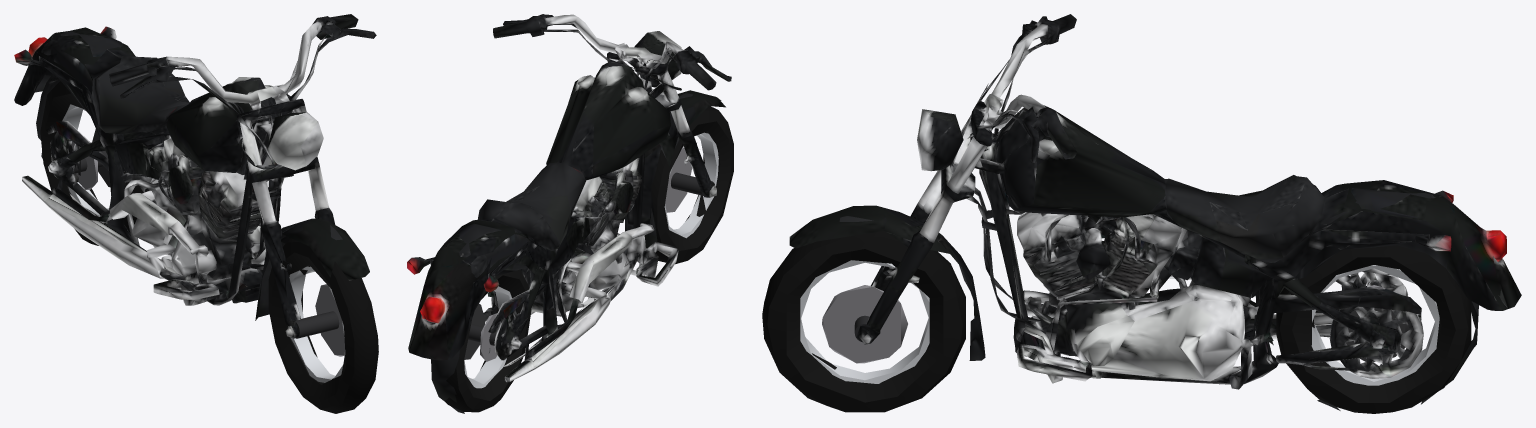
The model's file is cruiser.glb.
3 renders of one model, left to right at view 1: azimuth 30°, elevation 25°; view 2: azimuth 150°, elevation 25°; view 3: azimuth 270°, elevation 25°, orthographic. The views are drawn at different scales.
Parts seen in each view (by area): view 1: body, steer, wheel_f, wheel_r; view 2: body, steer, wheel_f, wheel_r; view 3: body, wheel_f, steer, wheel_r.
Boxes of the visible parts, <box> form: body: <box>14,26,314,320</box>; steer: <box>109,14,376,338</box>; wheel_f: <box>268,238,378,413</box>; wheel_r: <box>40,81,143,245</box>; body: <box>407,33,678,413</box>; steer: <box>493,14,731,197</box>; wheel_f: <box>646,106,733,264</box>; wheel_r: <box>445,269,531,412</box>; body: <box>941,61,1521,410</box>; wheel_f: <box>762,231,965,412</box>; steer: <box>789,14,1077,344</box>; wheel_r: <box>1276,245,1471,413</box>.
Bounding box in the file's own units: 1.04 × 1.21 × 2.4.
2 materials, 2 textured.
